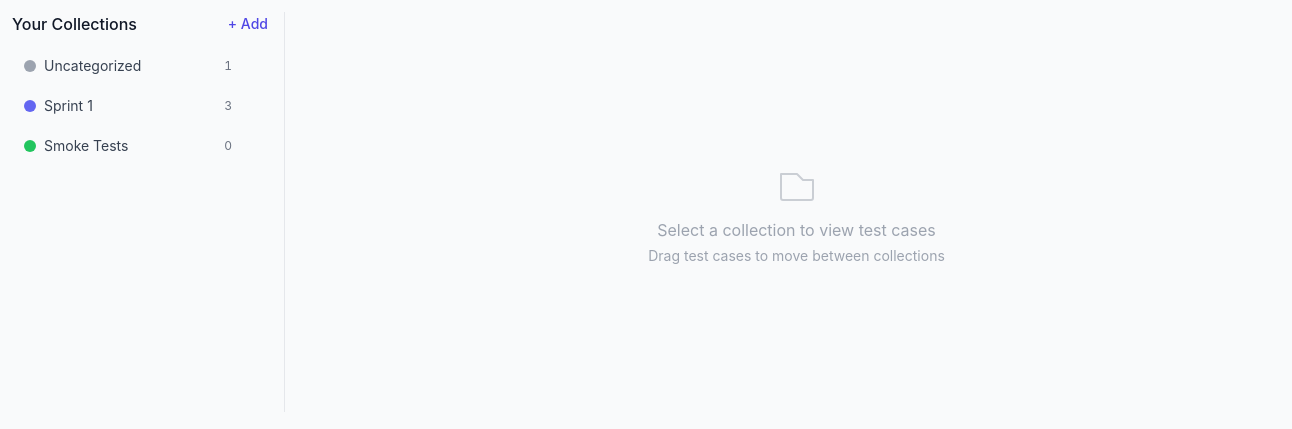
Scenario: CollectionsView › should show test cases when collection is selected
Click the text "Sprint 1". click: [68, 106]
box: [44,97,93,114]
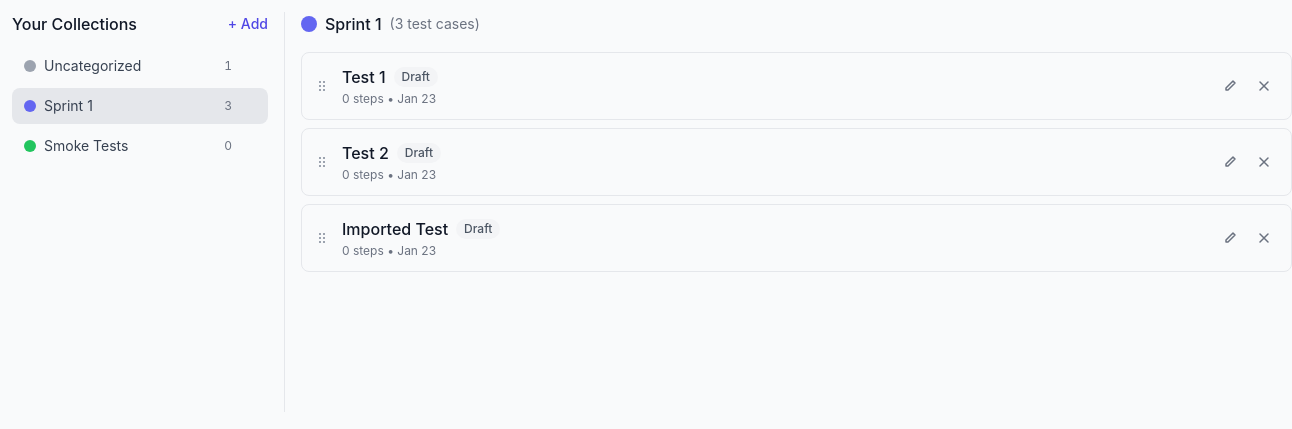
Check: the text "Test 1" is shown, box [342,65,386,89]
Check: the text "Test 2" is shown, box [342,141,389,165]
